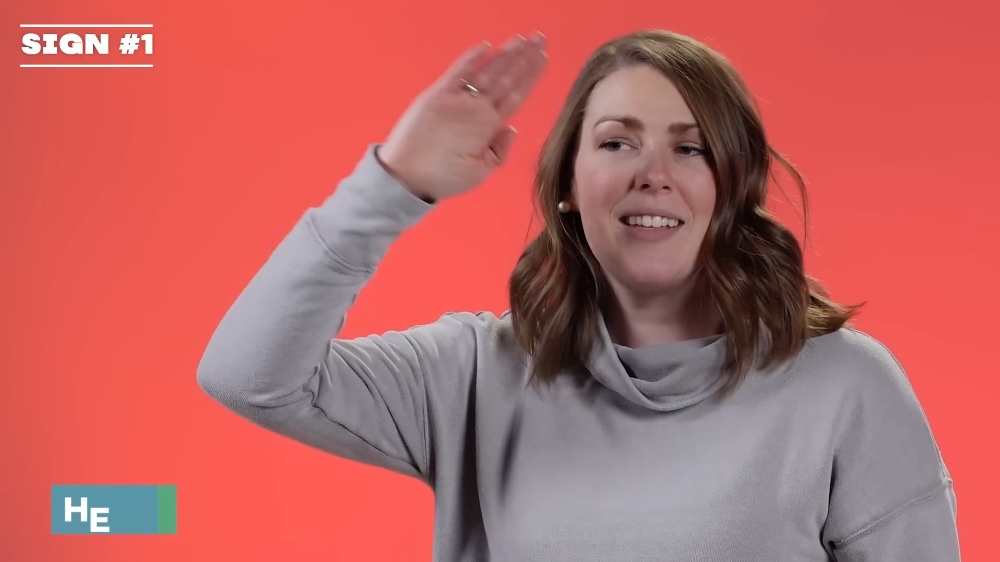hello: (386, 28, 558, 195)
